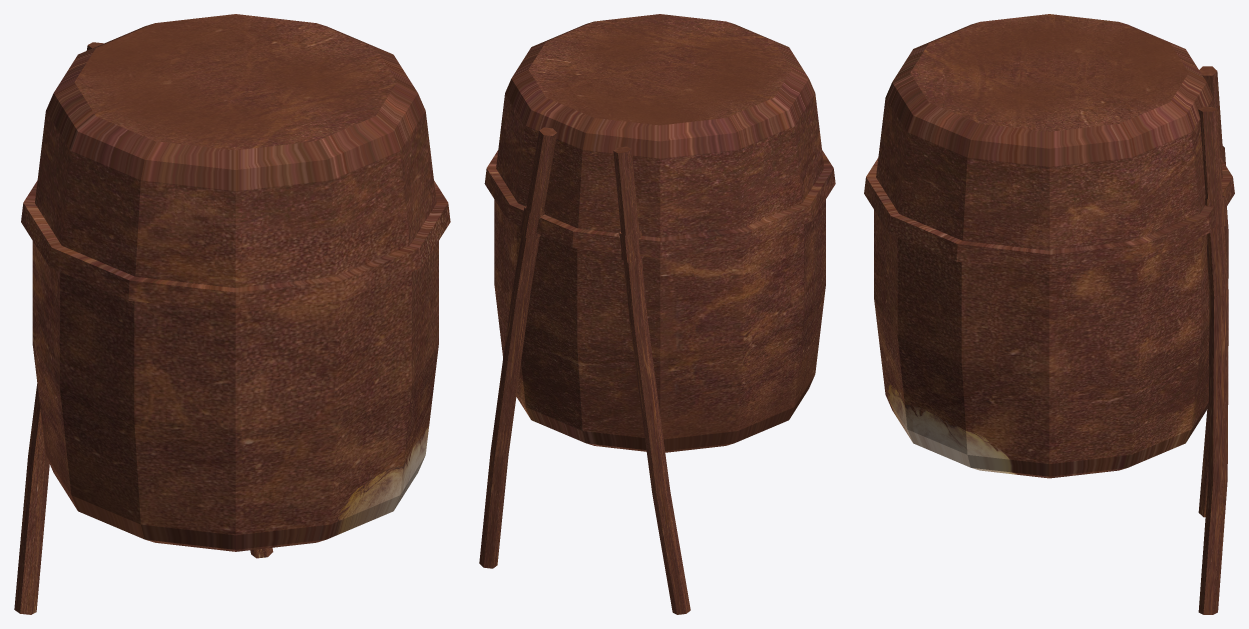
File: Geduk.fbx
3 views of the same model, side by side, from view 1: azimuth 30°, elevation 25°; view 2: azimuth 150°, elevation 25°; view 3: azimuth 270°, elevation 25° (orthographic). The views are drawn at different scales.
Parts seen in each view (by area): view 1: Geduk; view 2: Geduk; view 3: Geduk.
Part boxes in pixels (x1,y1,x2,y2): Geduk: (14,14,450,614); Geduk: (479,14,835,614); Geduk: (864,14,1234,614).
Bounding box in the file's own units: 64.74 × 94.51 × 64.74.
Materials: 1 (1 with a texture image).
